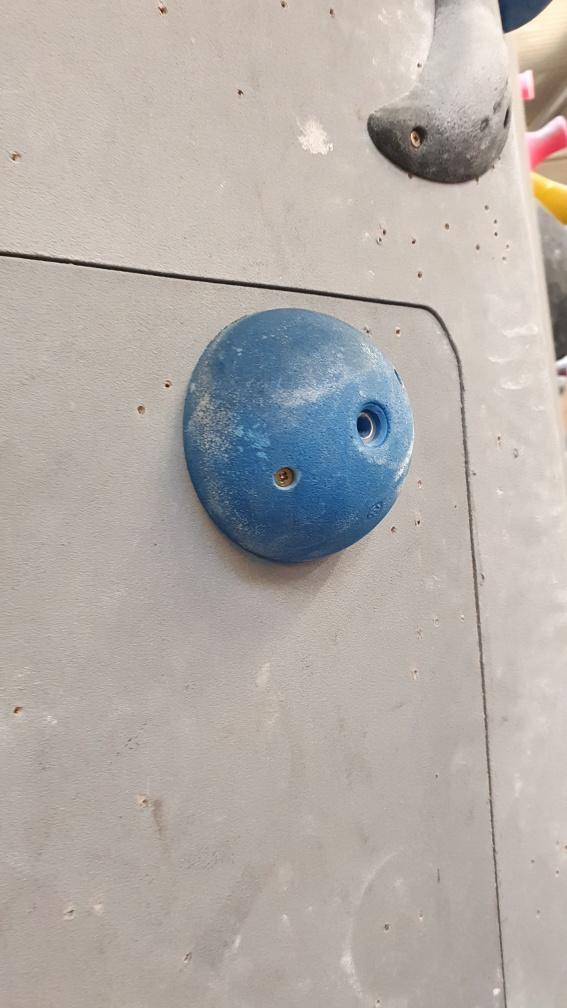Sloper: (177, 302, 419, 571)
